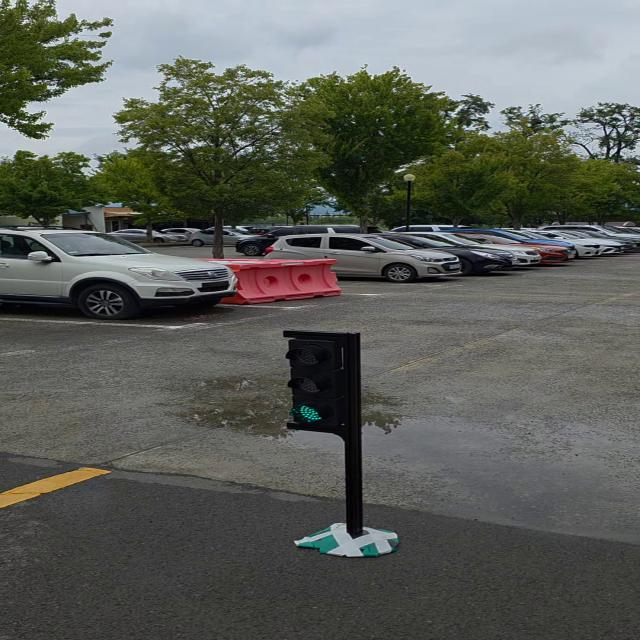green: (283, 334, 361, 434)
